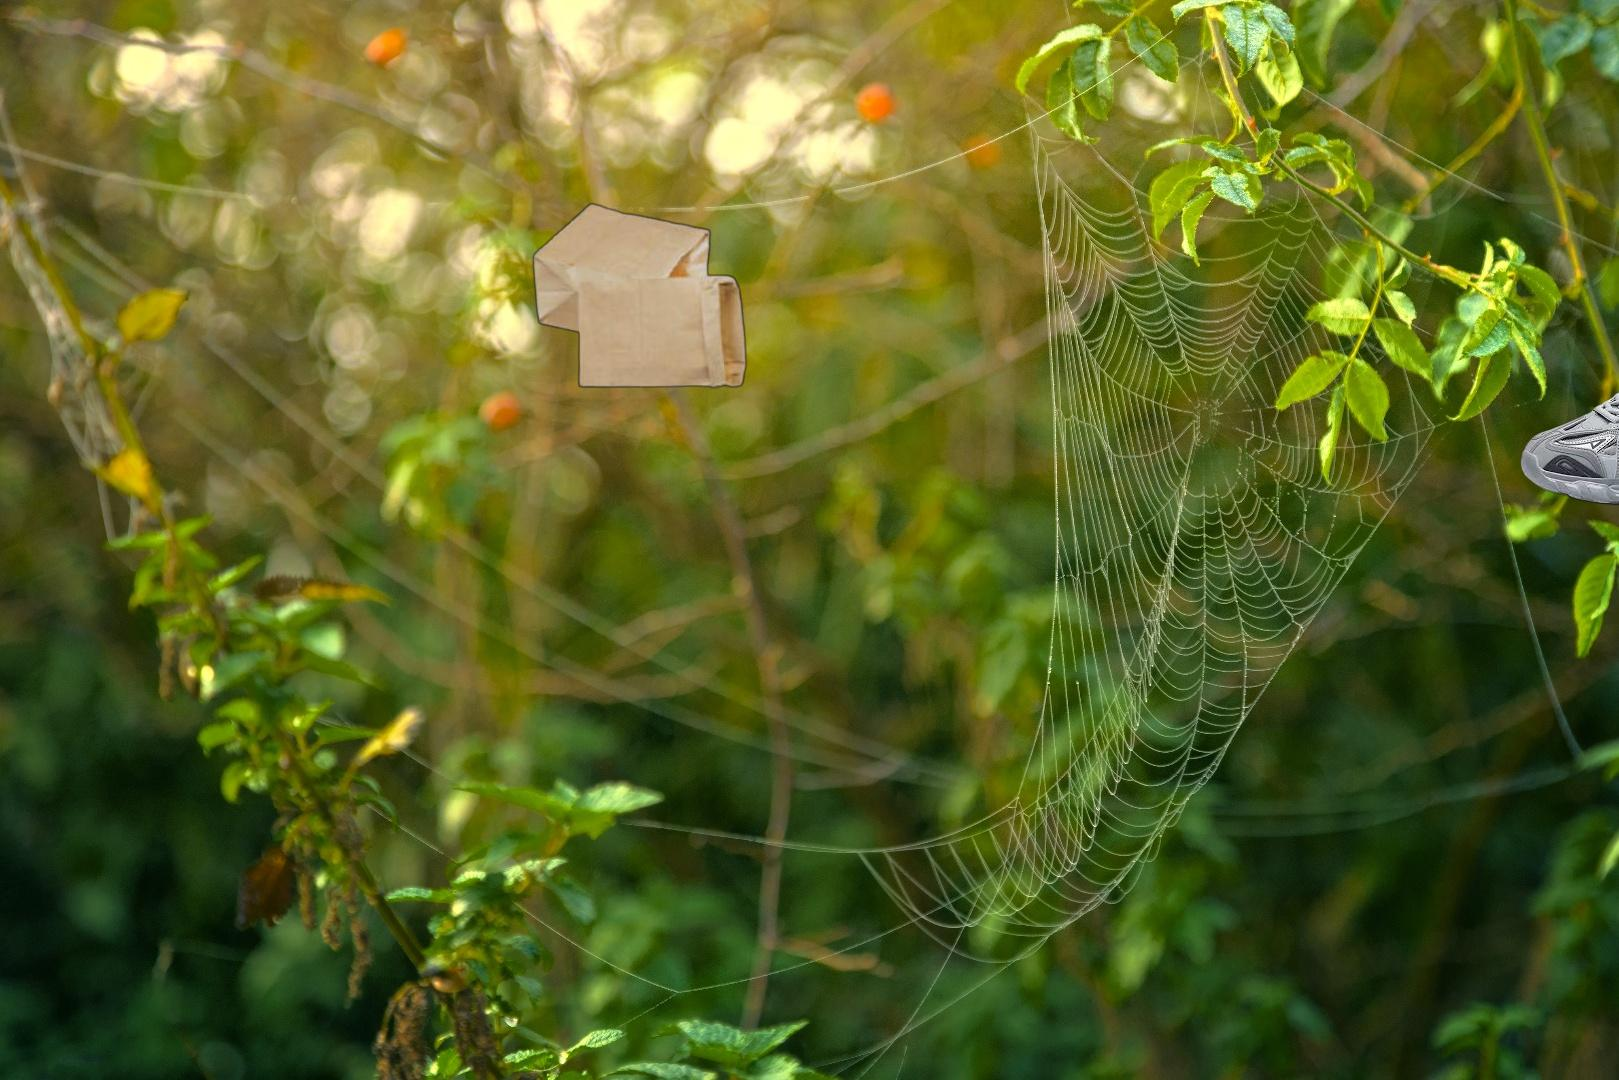paper-bag: (531, 202, 749, 391)
shoes: (1520, 332, 1619, 508)
